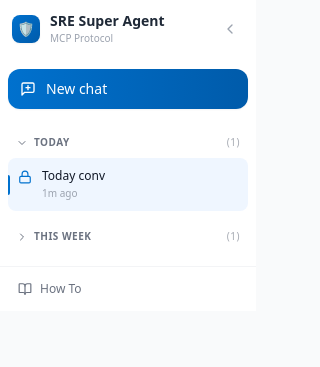
toggleGroup › only toggles the clicked group, leaving others unchanged
Expected: the text "Today conv" is shown, [42, 168, 105, 184]
Expected: the text "Week conv" is not shown
// Expand "This week"
What coordinates should you click on to do the following:
click the text "This week"
I would click on:
 (63, 236)
Its box is [34, 229, 92, 244].
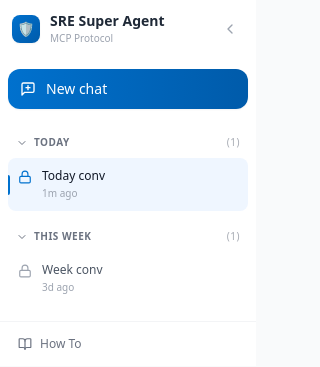
Expected: the text "Today conv" is shown, [42, 168, 105, 184]
Expected: the text "Week conv" is shown, [42, 262, 102, 278]
